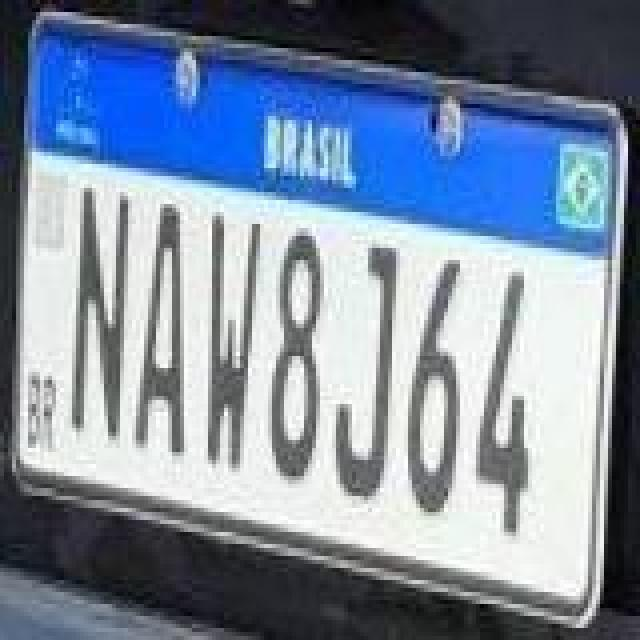4: (476, 264, 532, 536)
6: (400, 254, 464, 514)
8: (266, 230, 326, 482)
A: (132, 200, 188, 456)
J: (334, 242, 402, 502)
N: (68, 184, 132, 440)
W: (202, 214, 262, 474)
